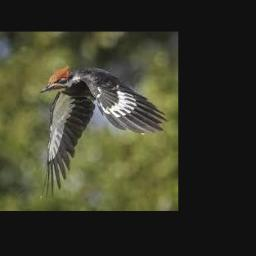Woodpecker: (40, 65, 168, 199)
